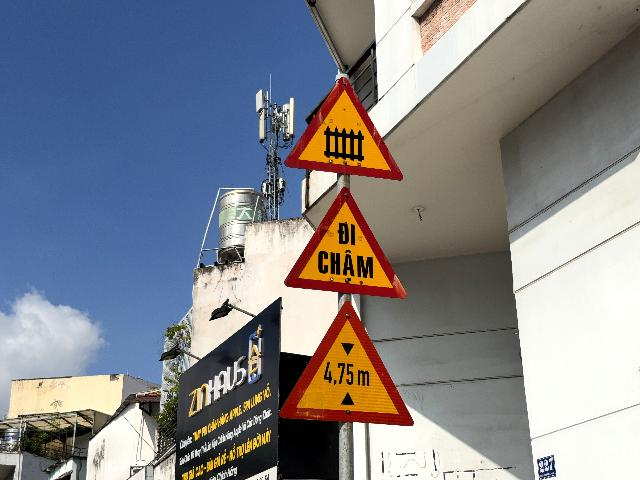chieu-cao-tinh-khong-thuc-te: (278, 299, 415, 426)
di-cham: (284, 186, 408, 299)
noi-giao-nhau-voi-duong-sat-co-rao-chan: (285, 76, 403, 180)
